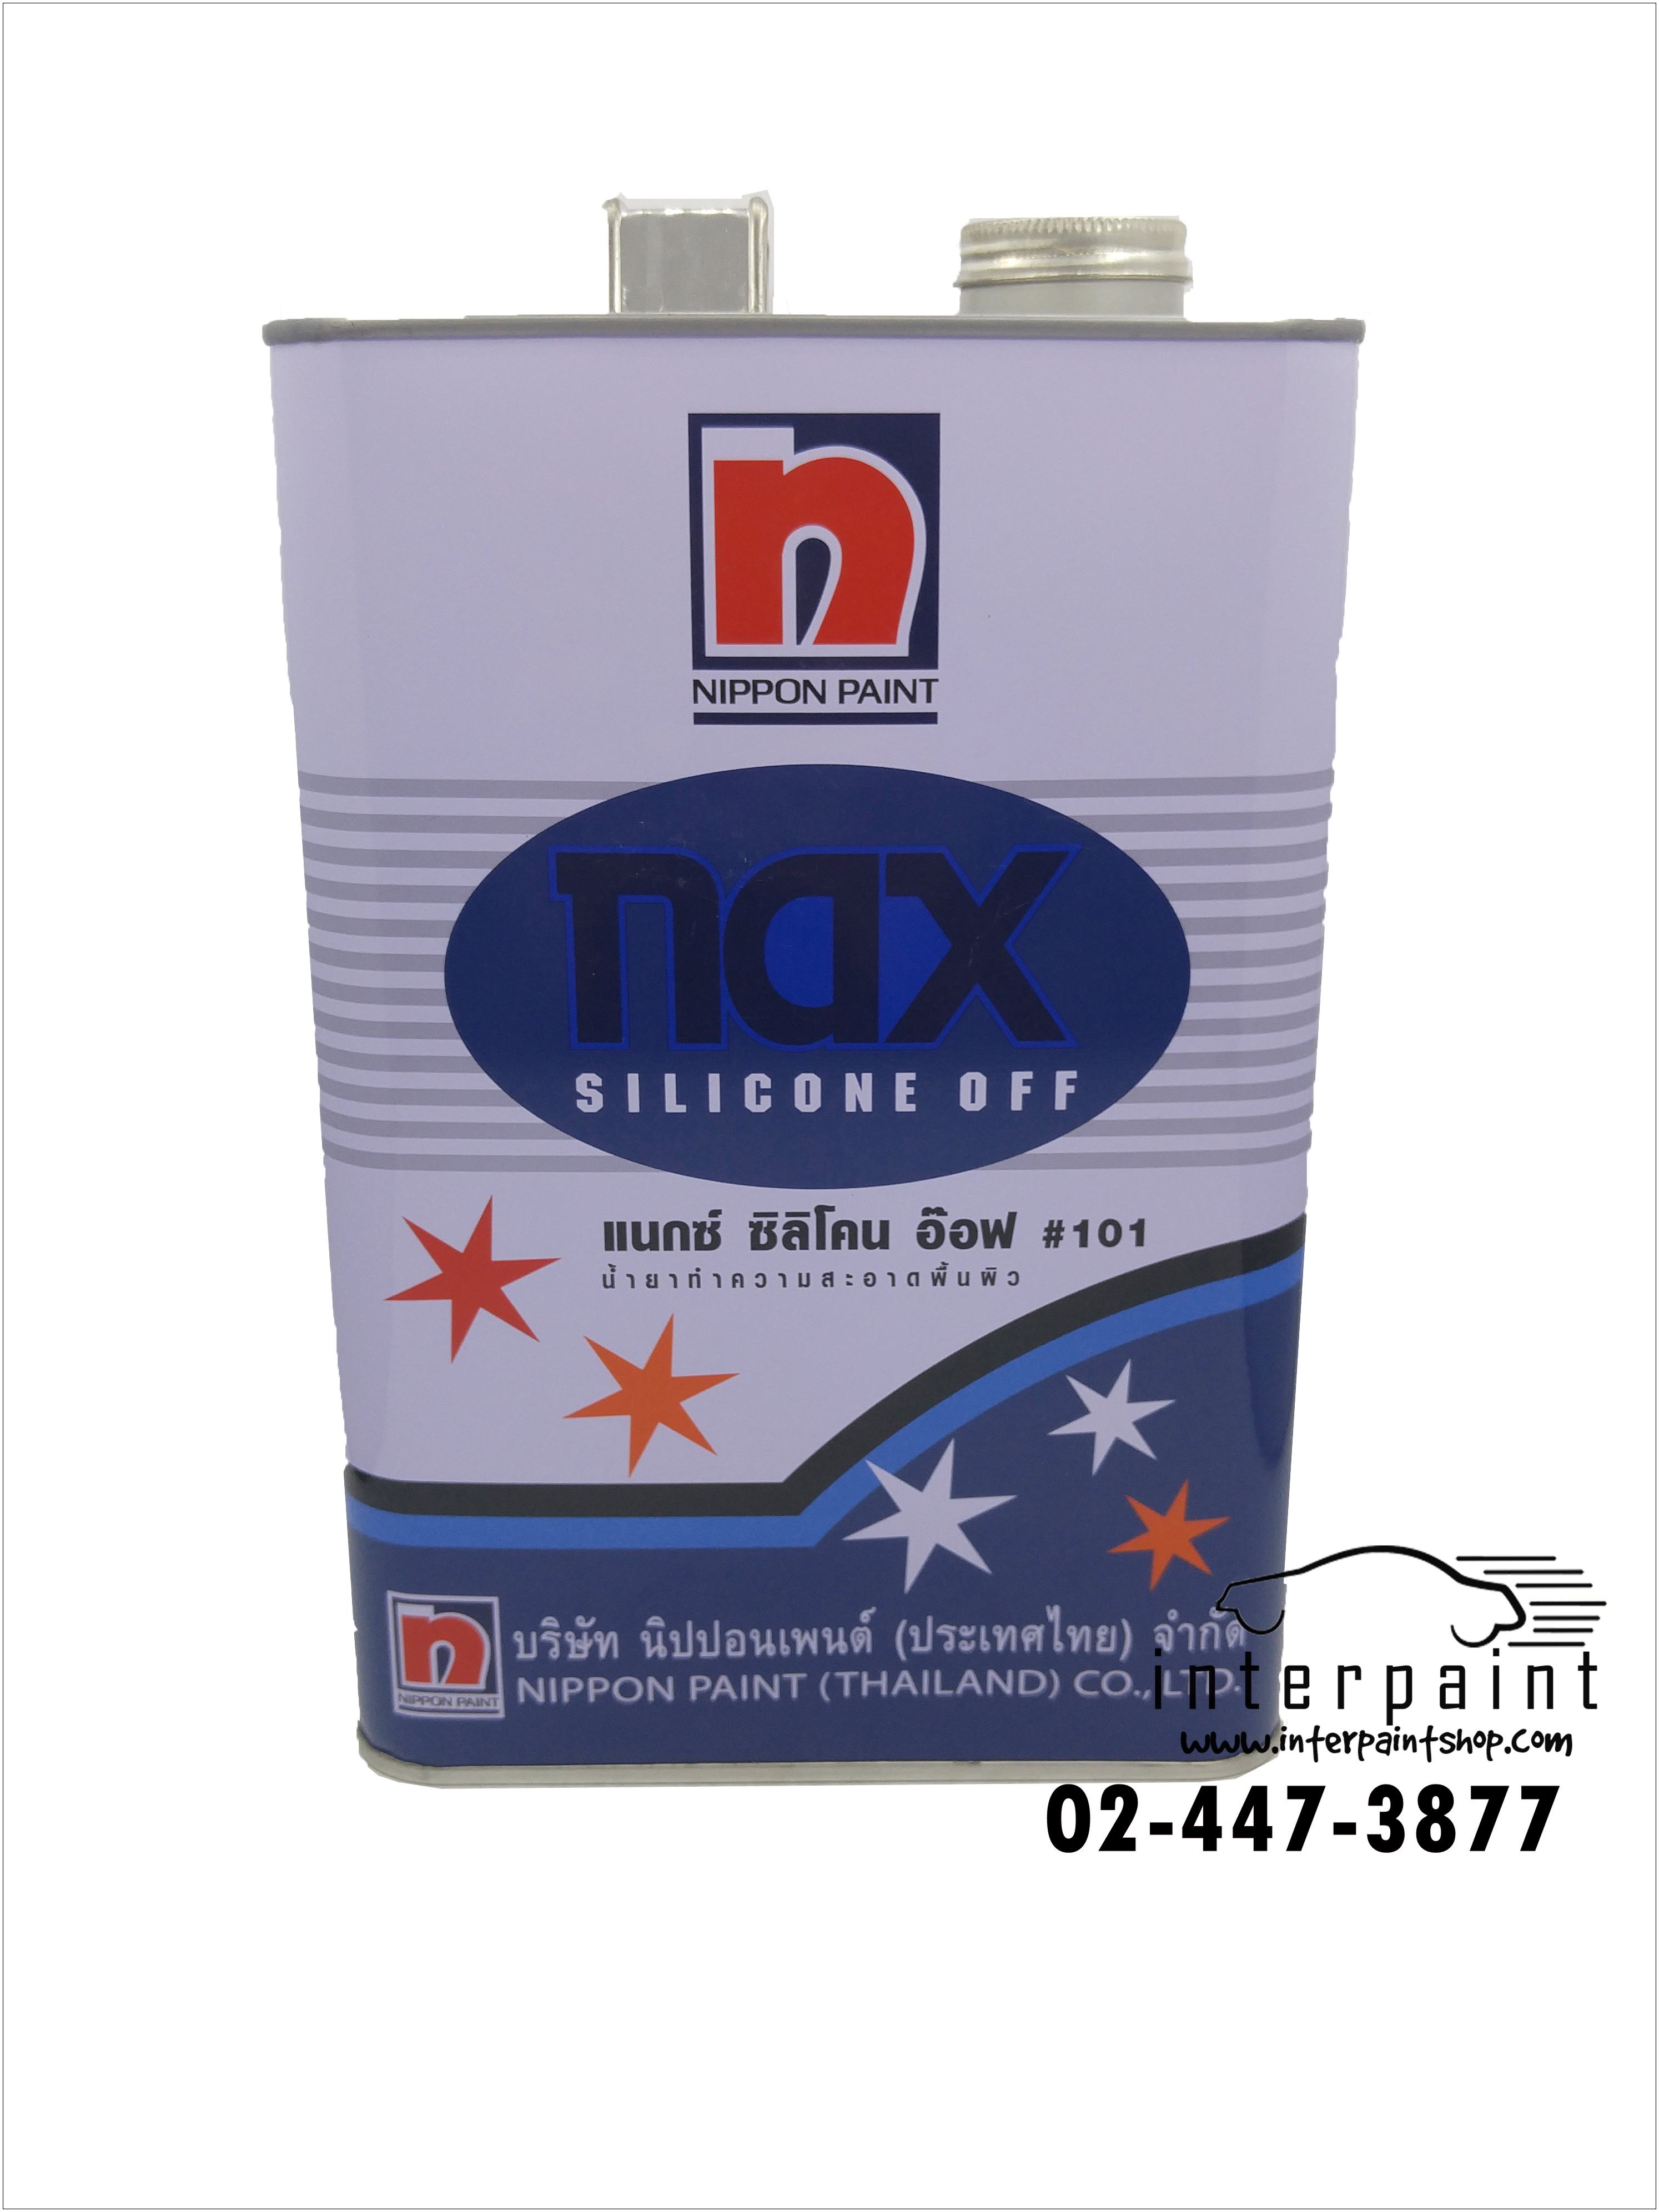Cleaning_solution: (244, 181, 1377, 1832)
